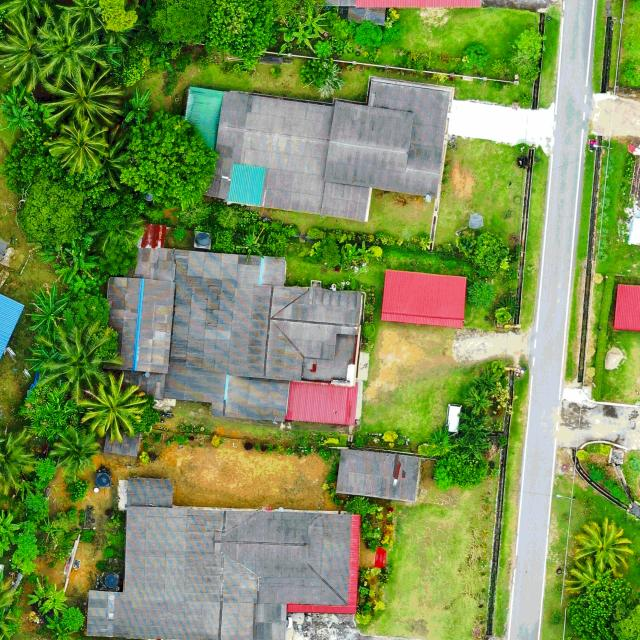Tree: (0, 130, 144, 248), (119, 109, 221, 209), (28, 322, 122, 404), (41, 63, 124, 130), (36, 10, 104, 91), (207, 0, 277, 73), (0, 11, 58, 96), (78, 372, 147, 442), (566, 576, 640, 640), (572, 517, 636, 574), (20, 385, 80, 440), (0, 420, 41, 498), (53, 116, 108, 174), (148, 0, 215, 46), (52, 425, 103, 476), (25, 284, 75, 336), (456, 231, 511, 274), (432, 454, 490, 492), (565, 555, 621, 593), (508, 29, 548, 80), (54, 242, 99, 286), (299, 58, 346, 100), (63, 291, 111, 329), (28, 574, 69, 616), (0, 568, 23, 637), (96, 0, 139, 33), (62, 0, 107, 30), (122, 84, 154, 126), (6, 105, 40, 140), (237, 225, 266, 265), (427, 424, 458, 458), (464, 385, 494, 416), (354, 19, 384, 48), (44, 615, 78, 640), (0, 83, 28, 113), (32, 454, 58, 486), (466, 280, 496, 306), (473, 366, 500, 394), (302, 9, 330, 35), (0, 508, 21, 540), (61, 604, 85, 632), (292, 26, 320, 50), (276, 17, 302, 42), (66, 475, 90, 502), (340, 244, 361, 269), (15, 542, 43, 560), (25, 491, 47, 512), (156, 51, 174, 73), (0, 531, 15, 555), (314, 40, 332, 59), (16, 532, 38, 546), (359, 241, 373, 262), (20, 560, 38, 576), (22, 520, 38, 533)
